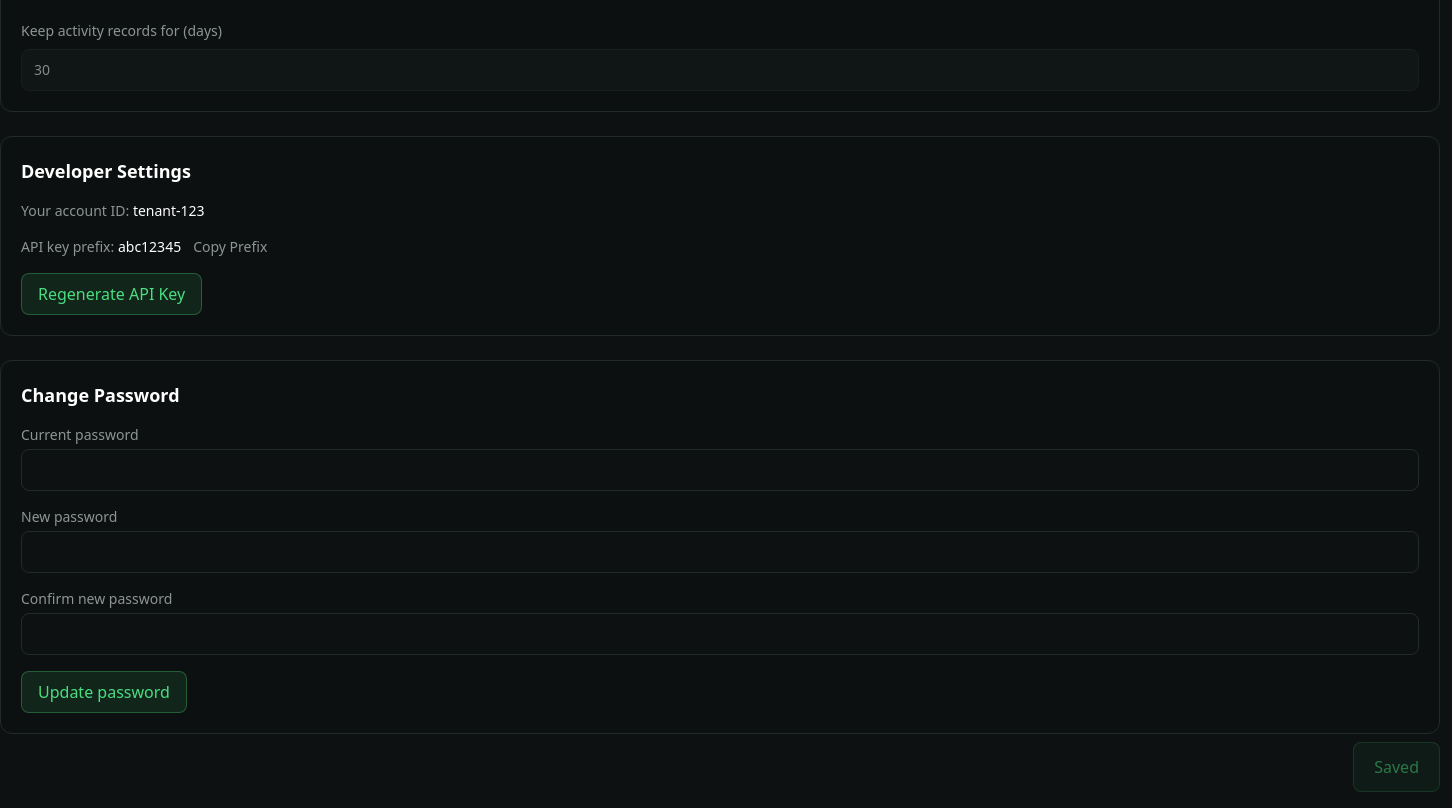
Test: SettingsPage › change password: mismatch shows inline error
(page scrolled)
Type "NewPass456!" into the password field labelled "New password" at point(720, 552), box [21,531,1419,573]
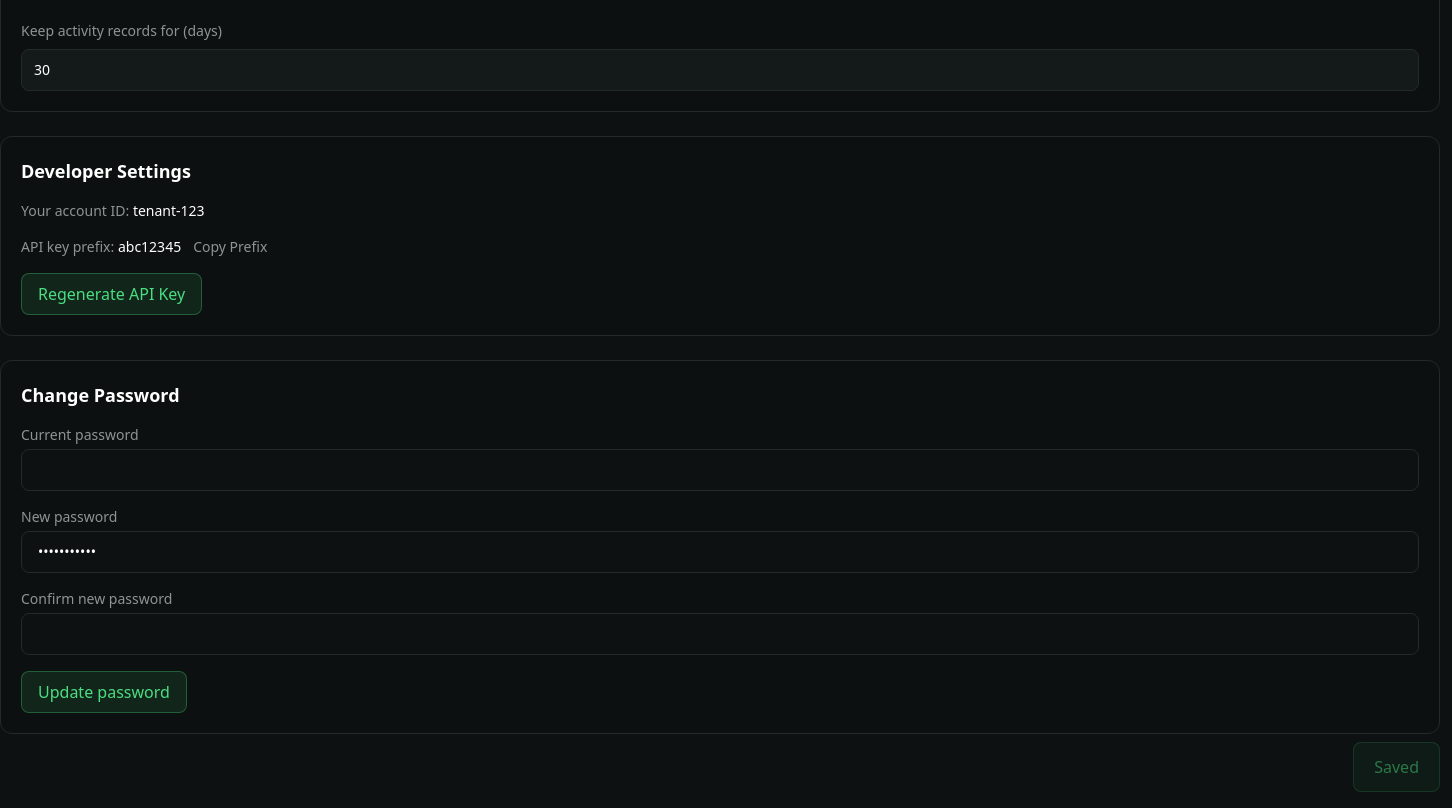
Type "Different123!" into the password field labelled "Confirm new password" at point(720, 634), box [21,613,1419,655]
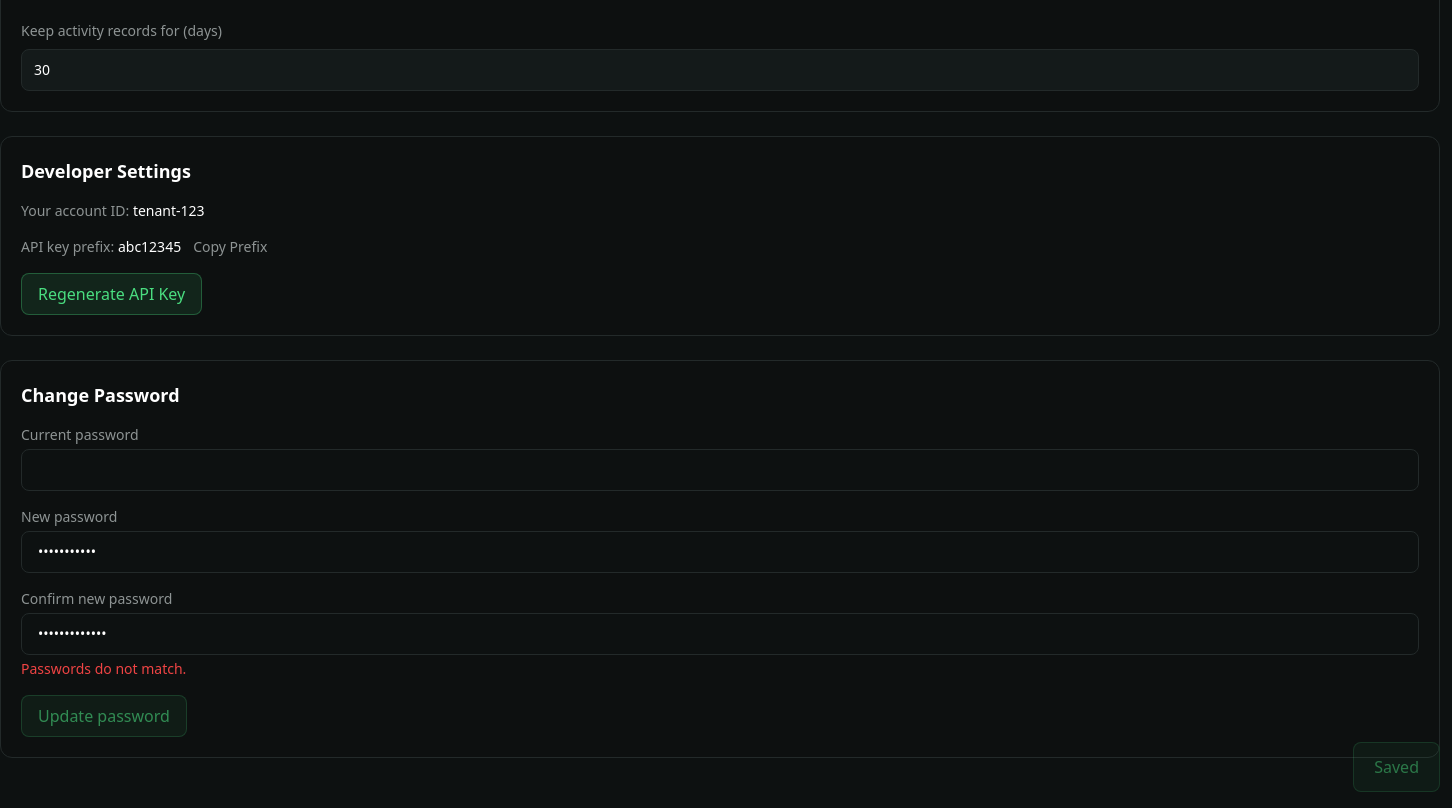
Now the text "Passwords do not match." is shown, box [21,659,186,678]
